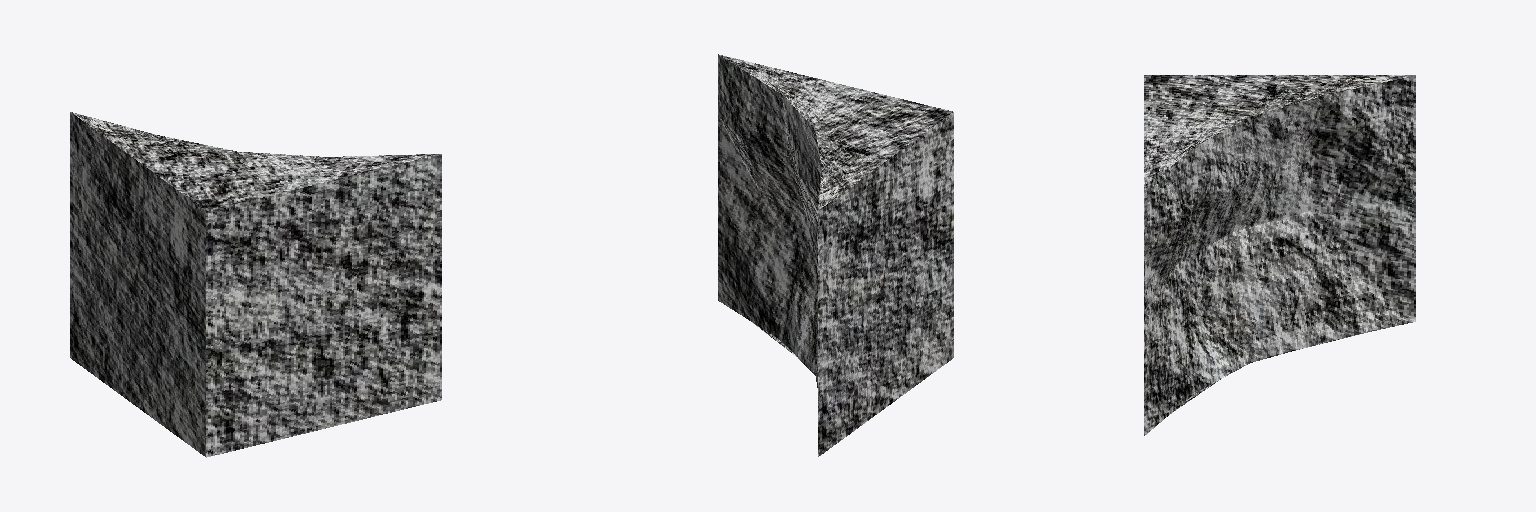
3 renders of one model, left to right at view 1: azimuth 30°, elevation 25°; view 2: azimuth 150°, elevation 25°; view 3: azimuth 270°, elevation 25°, orthographic.
Parts seen in each view (by area): view 1: Cube; view 2: Cube; view 3: Cube.
Part boxes in pixels (x1,y1,x2,y2): Cube: (70,112,441,457); Cube: (718,54,953,456); Cube: (1144,75,1415,435).
Size of the model in its own units: 20 by 20 by 20.
Materials: 1 (1 with a texture image).